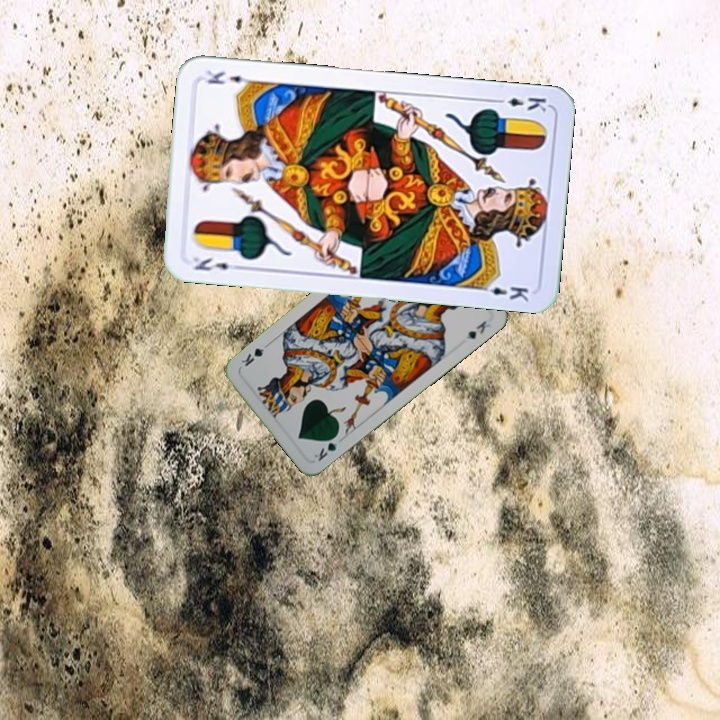EK: (490, 90, 549, 114), (189, 253, 244, 274)
GK: (310, 430, 341, 464)
